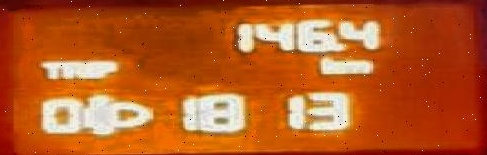-: (332, 41, 347, 51)
0: (36, 95, 78, 134)
1: (278, 89, 303, 134), (176, 92, 196, 135), (234, 19, 252, 53)
3: (305, 87, 349, 131)
4: (336, 17, 383, 50), (254, 20, 294, 51)
6: (296, 16, 334, 51)
8: (198, 90, 243, 132)
X: (92, 58, 118, 79), (316, 54, 343, 74), (36, 57, 58, 80), (343, 58, 369, 74), (58, 59, 78, 79), (78, 59, 92, 79)
